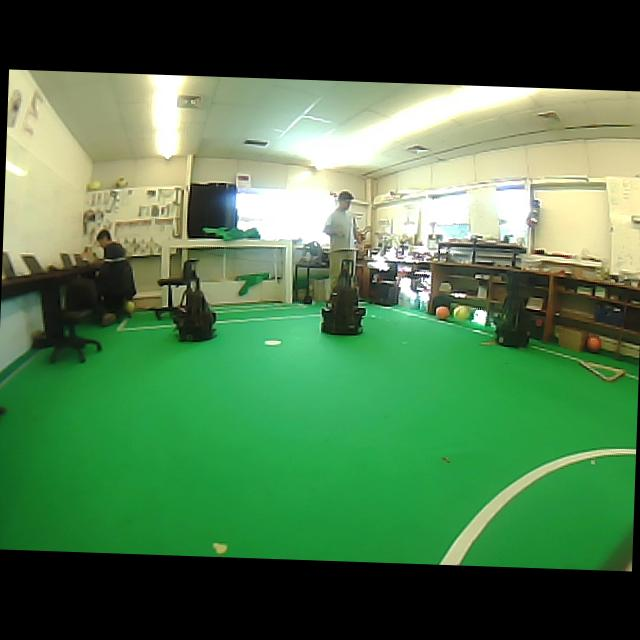ball: (585, 334, 601, 352), (453, 305, 468, 320), (435, 305, 448, 319), (124, 299, 134, 315), (115, 175, 127, 187), (87, 180, 101, 189)
goal: (283, 240, 292, 302)
robot: (173, 259, 214, 340), (321, 259, 364, 334), (496, 292, 528, 346)
